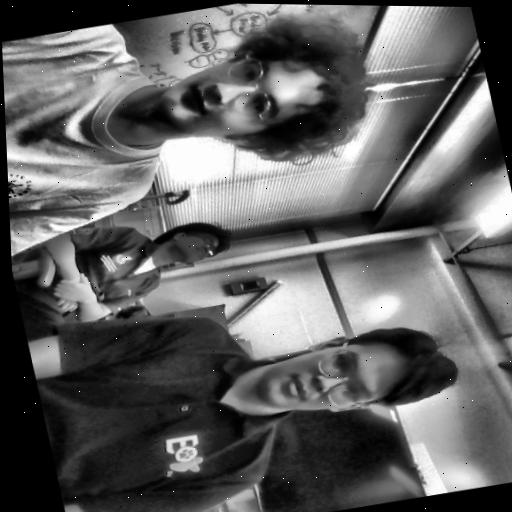Daifuku: (136, 8, 387, 188)
Not Daifuku: (246, 315, 469, 433), (144, 211, 242, 276)
